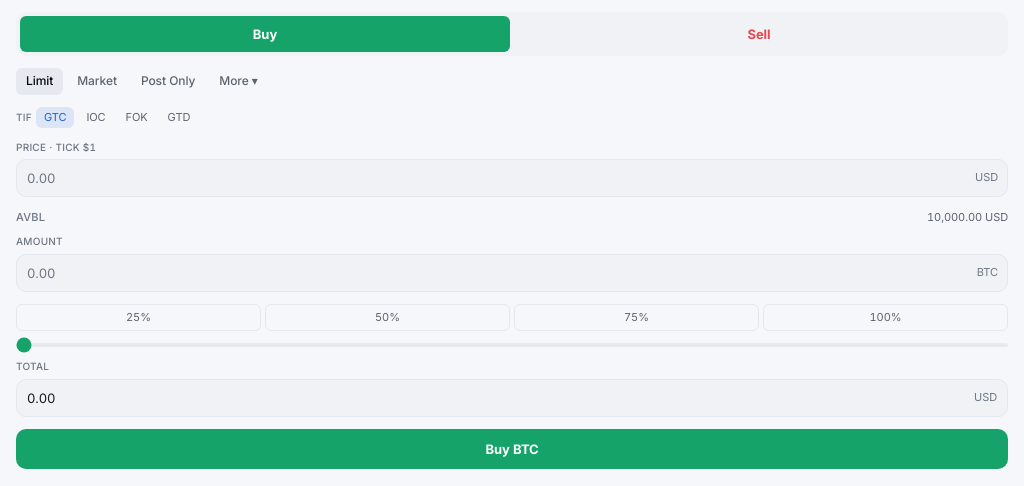
Test: OrderForm % sizing › buy prefers the typed form price over the last trade price
In the number field with placeholder "0.00" below "Price · tick $1": (512, 178) [16,159,1008,197], type "50000"
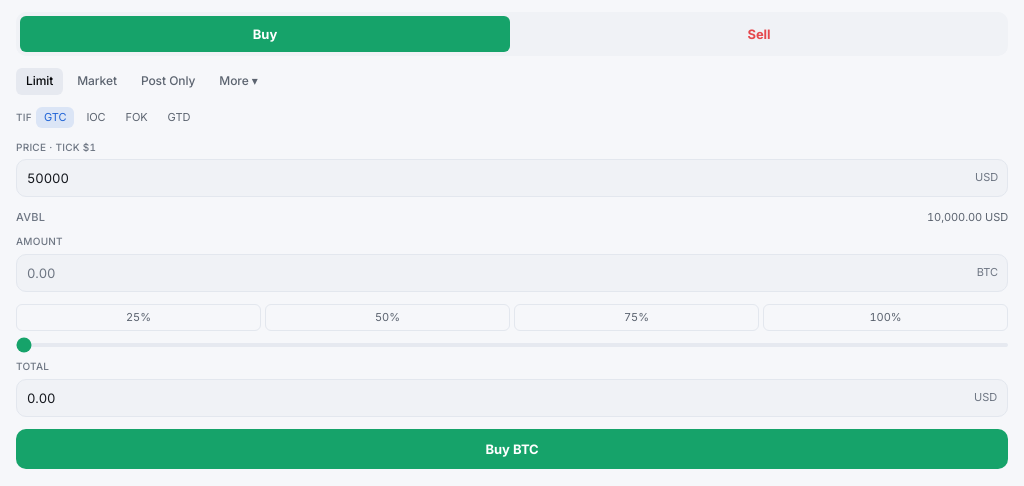
Click the button "25%": (138, 318) [16,304,261,331]
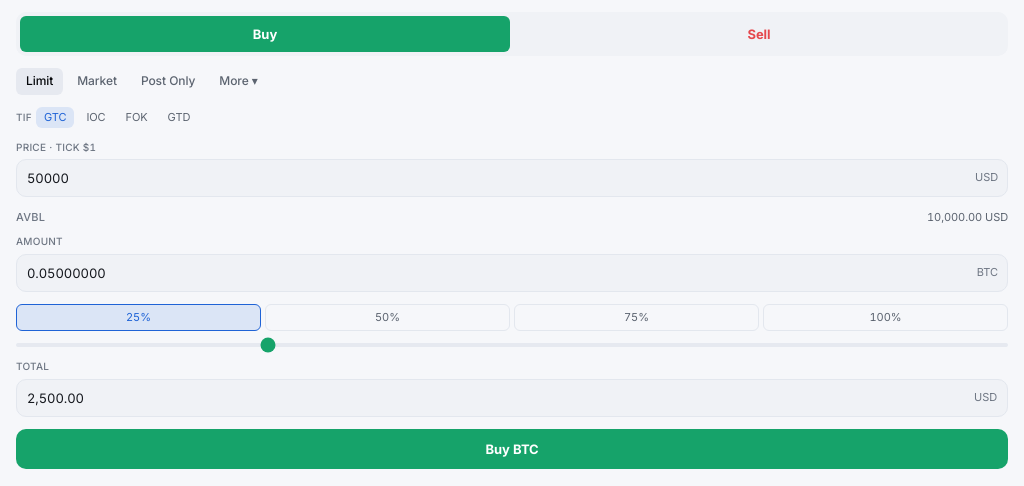
expect the number field below "Amount" holds "0.05000000": met, box [16,254,1008,292]
